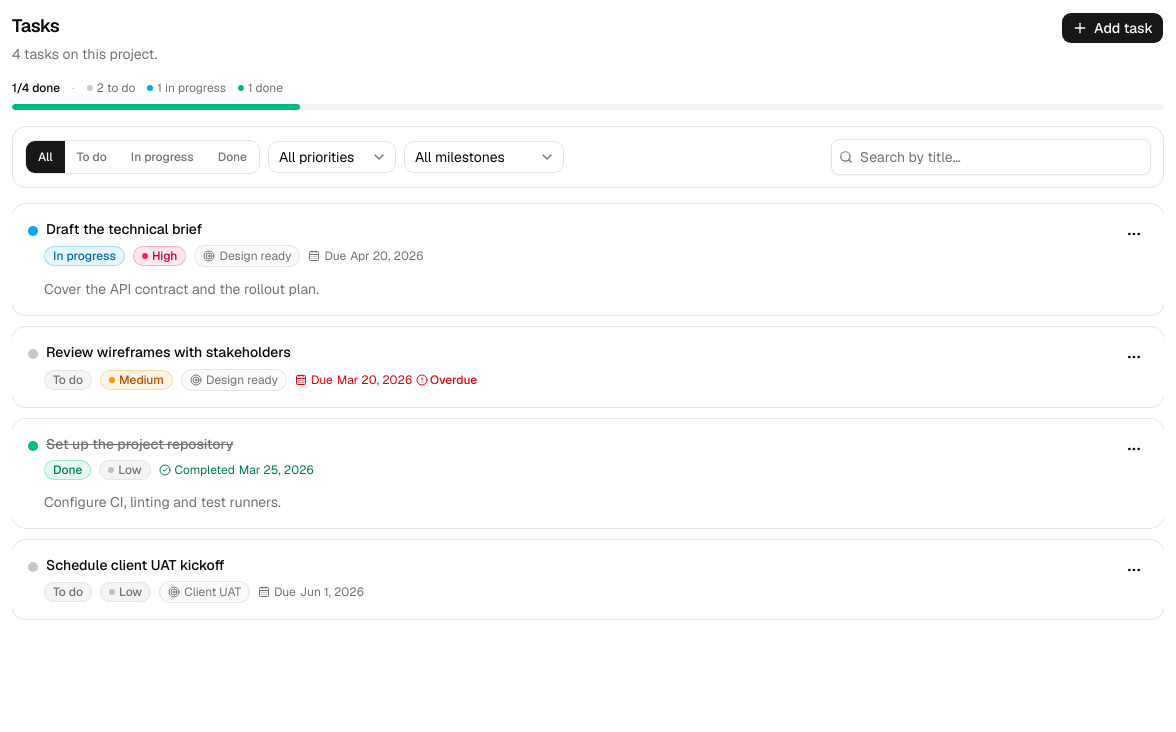
Test: ProjectTasksSection › filters tasks by status when a filter chip is clicked
Click the button "Done" at (232, 157), box [206,141,259,173]
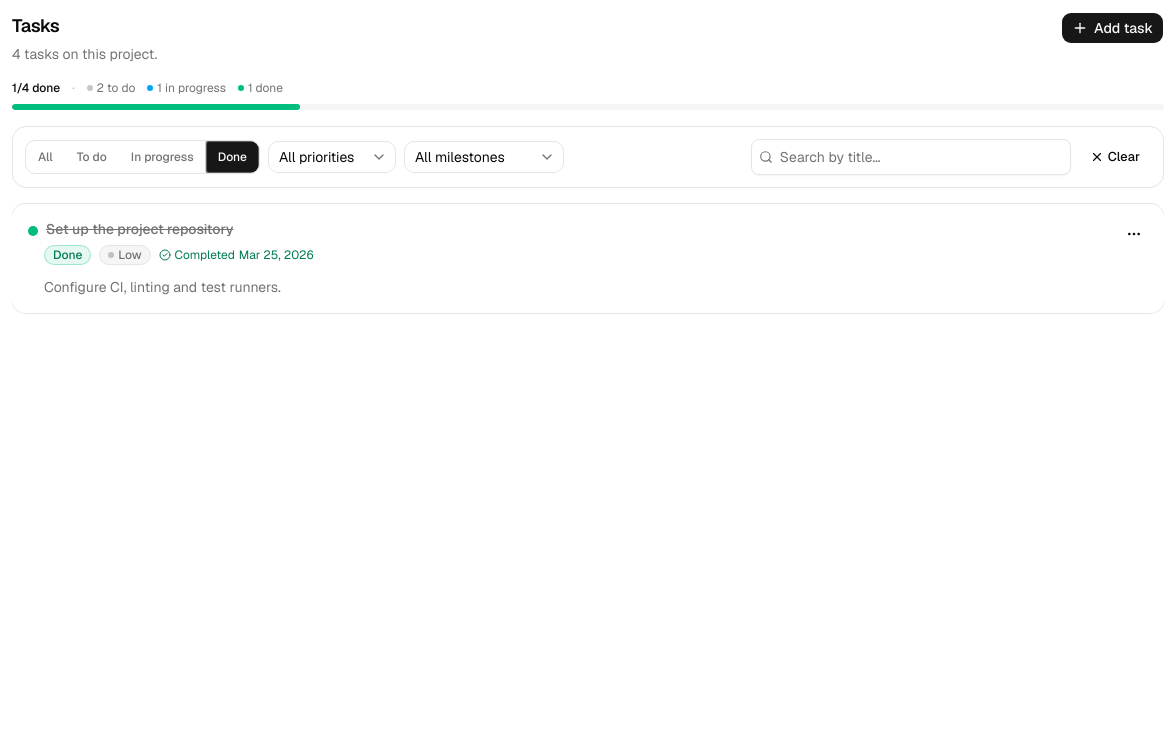
Expected: the headings read "Set up the project repository", in this order, [46,220,233,239]
